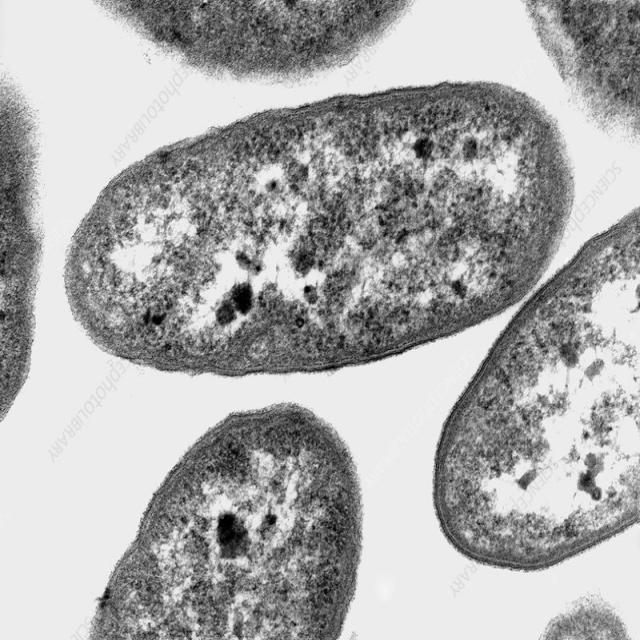Amoeba: (63, 80, 576, 380), (433, 205, 640, 575), (87, 403, 366, 640)
